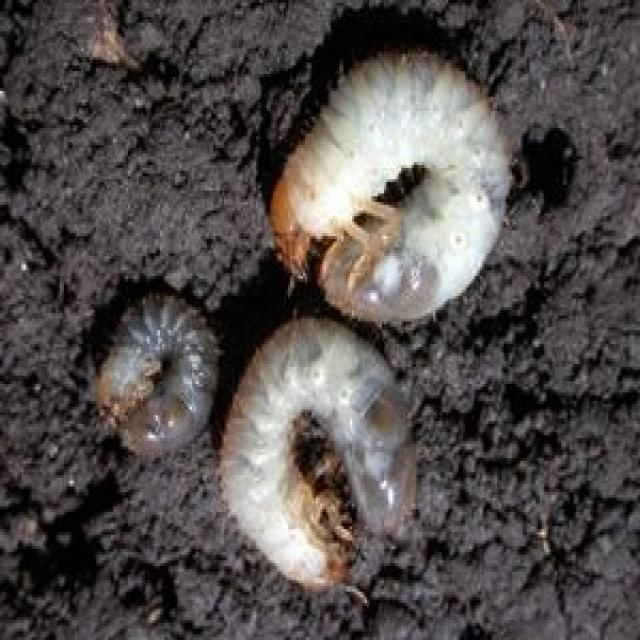grub: (257, 48, 509, 324), (212, 324, 426, 600), (86, 290, 223, 452)
